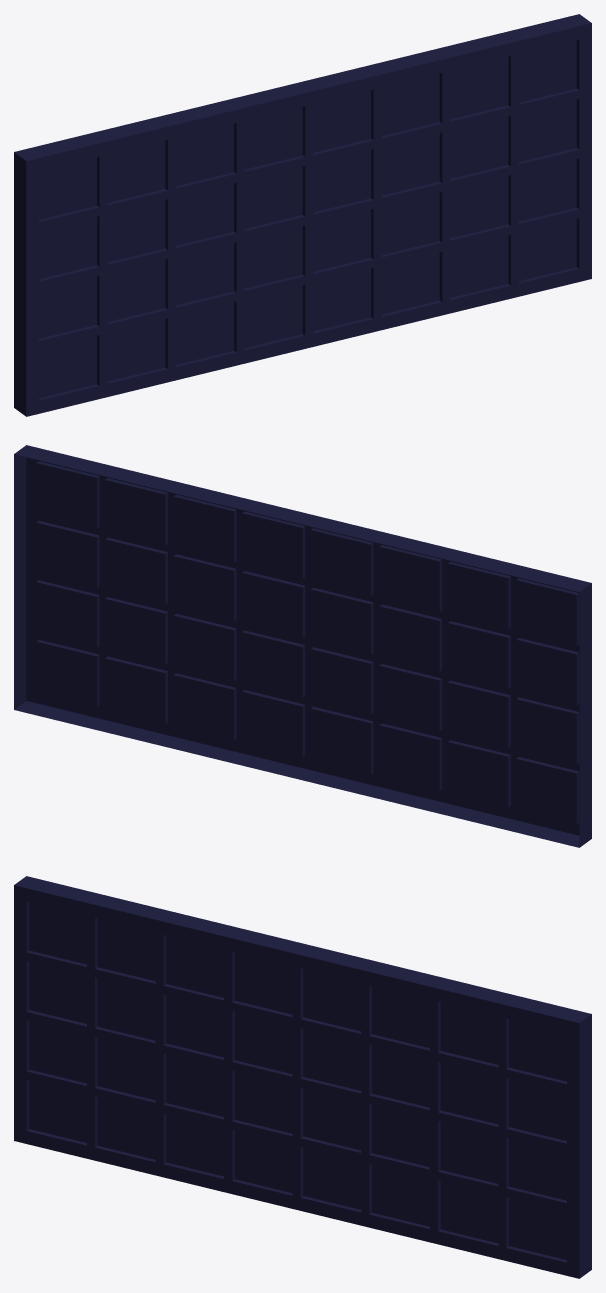
The model's file is Ventana.fbx.
The picture shows the model from 3 angles, top to bottom: view 1: azimuth 30°, elevation 25°; view 2: azimuth 150°, elevation 25°; view 3: azimuth 330°, elevation 25°; orthographic projection.
Parts seen in each view (by area): view 1: Ventana; view 2: Ventana; view 3: Ventana.
Part boxes in pixels (x1,y1,x2,y2): Ventana: [14, 14, 591, 416]; Ventana: [14, 445, 591, 847]; Ventana: [14, 876, 591, 1278].
Size of the model in its own units: 420 by 181 by 16.06.
